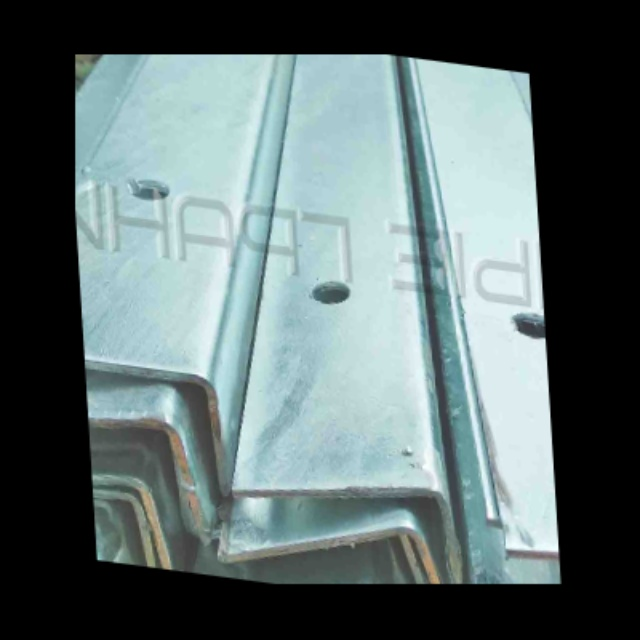Angle: (236, 470, 461, 584), (85, 363, 226, 492), (218, 507, 446, 584), (88, 418, 205, 539), (92, 479, 167, 567), (93, 495, 151, 565)
